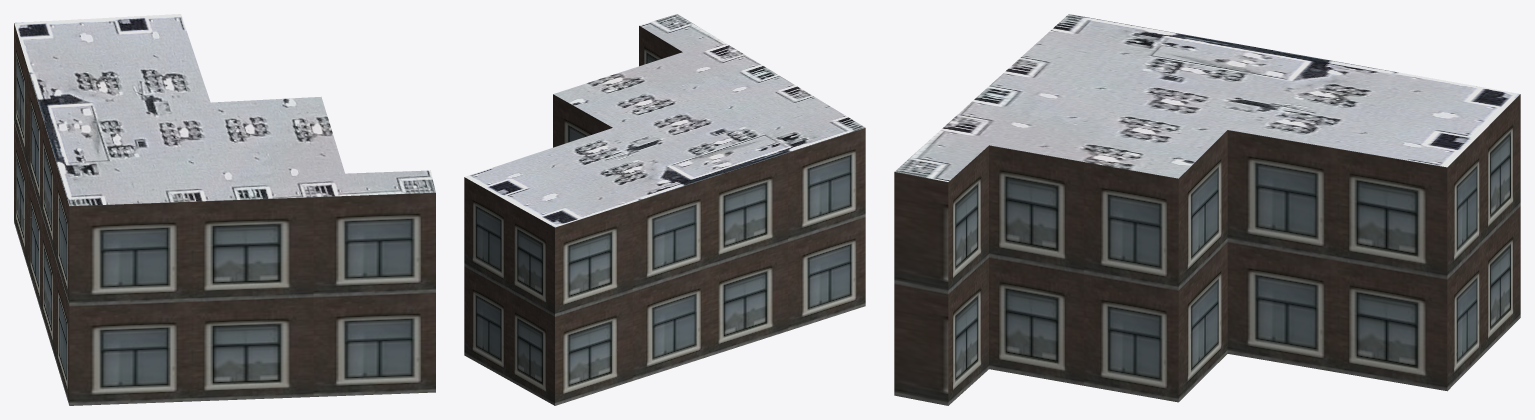
Rendered from ResTex__409.fbx.
3 renders of one model, left to right at view 1: azimuth 30°, elevation 25°; view 2: azimuth 150°, elevation 25°; view 3: azimuth 270°, elevation 25°, orthographic. The views are drawn at different scales.
Parts seen in each view (by area): view 1: CityEngineMaterial_16_m, CityEngineMaterial_15_m; view 2: CityEngineMaterial_16_m, CityEngineMaterial_15_m; view 3: CityEngineMaterial_16_m, CityEngineMaterial_15_m.
Part boxes in pixels (left/top/right/bottom): CityEngineMaterial_16_m: left=14, top=23, right=435, bottom=405; CityEngineMaterial_15_m: left=14, top=14, right=435, bottom=205; CityEngineMaterial_16_m: left=464, top=26, right=865, bottom=405; CityEngineMaterial_15_m: left=465, top=14, right=865, bottom=227; CityEngineMaterial_16_m: left=894, top=94, right=1520, bottom=405; CityEngineMaterial_15_m: left=894, top=14, right=1519, bottom=181.
Bounding box in the file's own units: 9.67 × 6 × 15.21.
Materials: 2 (2 with a texture image).
